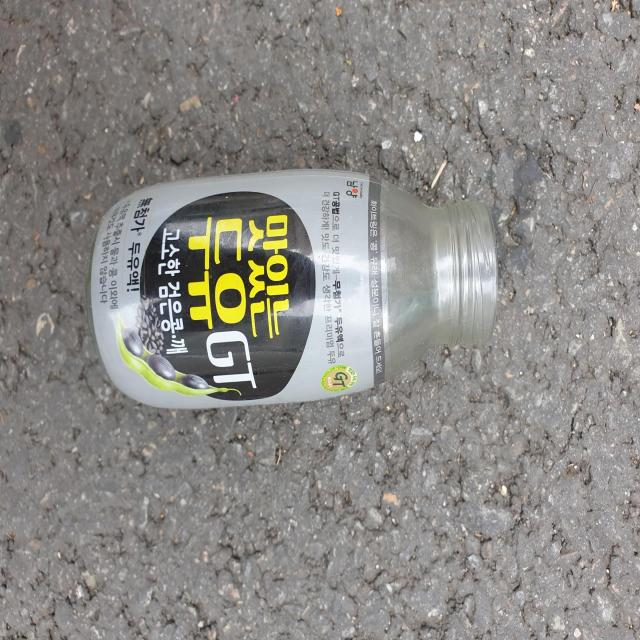glass: (87, 169, 498, 410)
